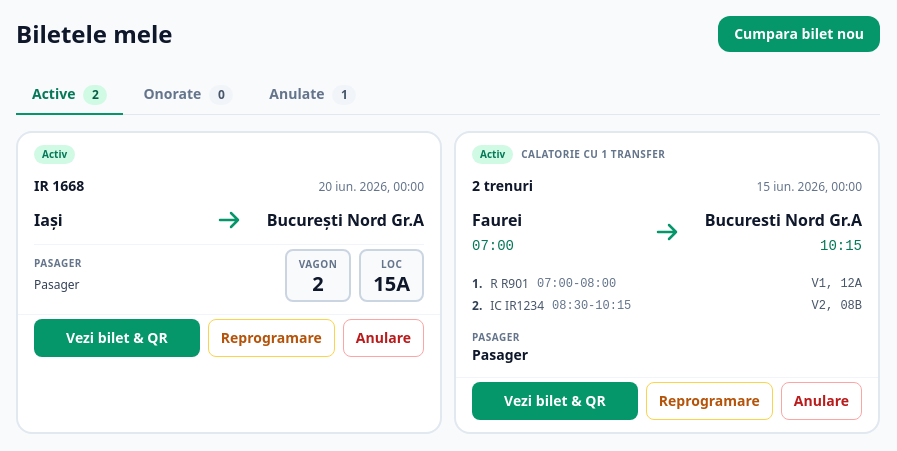
it: MyTickets › comutarea pe tab-ul Onorate afiseaza empty state cand nu sunt bilete
Click the tab "Onorate 0".
click(188, 96)  # box [128,76,249,115]
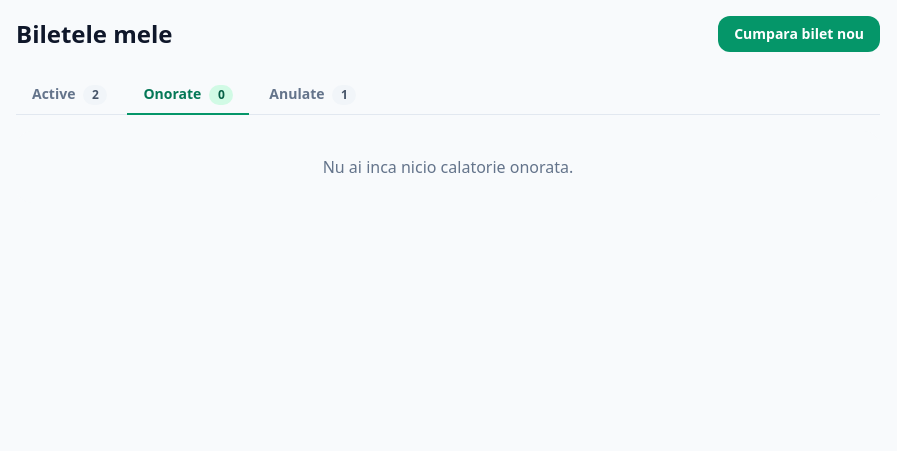
Result: the text "Nu ai inca nicio calatorie onorata." is shown at [16,131,880,203]
